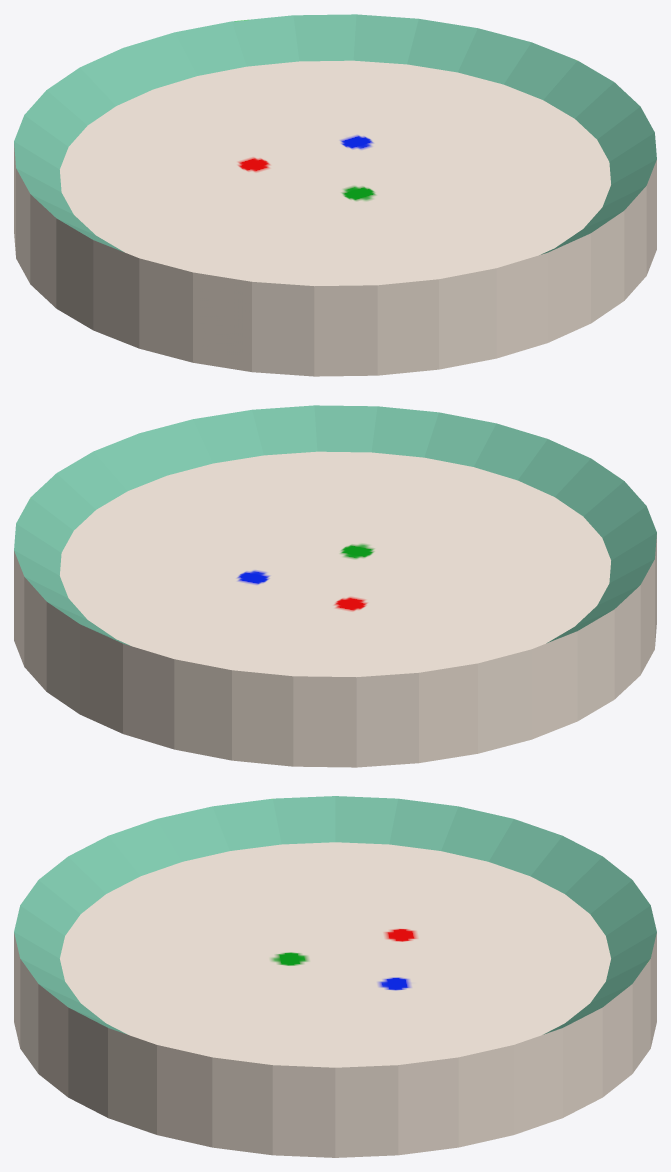
The model's file is Plate.obj.
The picture shows the model from 3 angles, top to bottom: view 1: azimuth 30°, elevation 25°; view 2: azimuth 150°, elevation 25°; view 3: azimuth 270°, elevation 25°; orthographic projection.
Parts seen in each view (by area): view 1: PlaceMat.001; view 2: PlaceMat.001; view 3: PlaceMat.001.
Part boxes in pixels (x1=…): PlaceMat.001: x1=14, y1=14, x2=656, y2=376; PlaceMat.001: x1=14, y1=405, x2=656, y2=767; PlaceMat.001: x1=14, y1=796, x2=656, y2=1157.
Size of the model in its own units: 0.5604 by 0.0867 by 0.5604.
